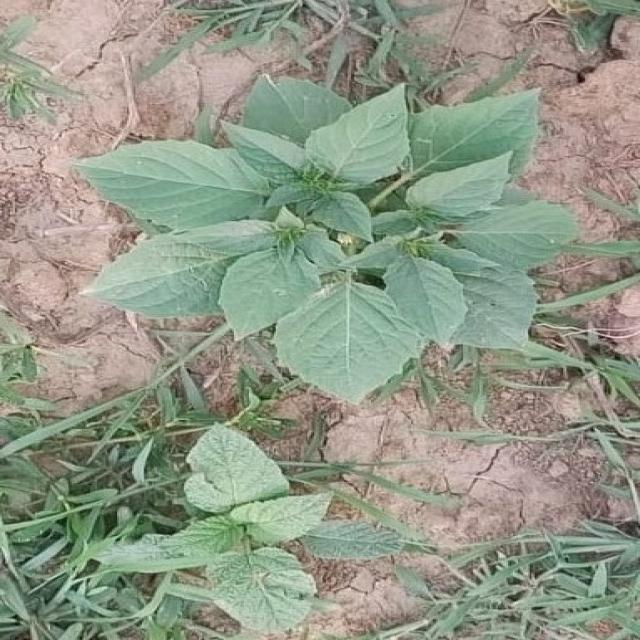weed: (79, 78, 578, 402), (97, 427, 401, 633)
